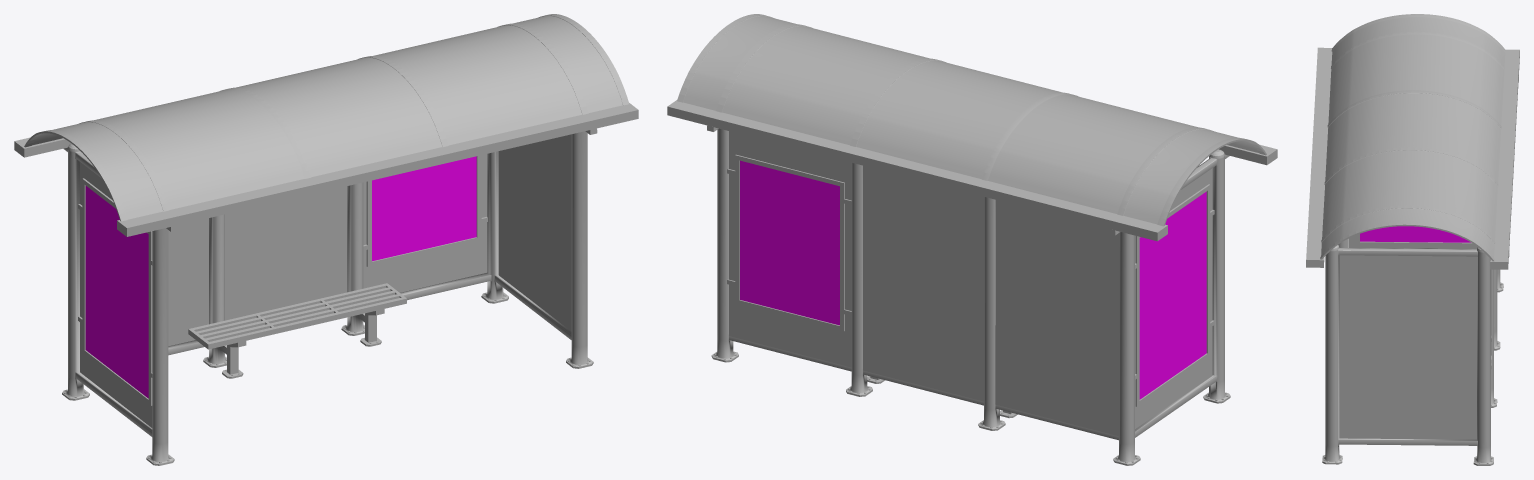
Rendered from busstop.fbx.
3 views of the same model, side by side, from view 1: azimuth 30°, elevation 25°; view 2: azimuth 150°, elevation 25°; view 3: azimuth 270°, elevation 25° (orthographic). The views are drawn at different scales.
Visible parts, largest first — view 1: BusStop; view 2: BusStop; view 3: BusStop.
Boxes of the visible parts, left/top/right/bottom form: BusStop: left=14, top=14, right=638, bottom=465; BusStop: left=667, top=14, right=1277, bottom=465; BusStop: left=1306, top=14, right=1519, bottom=465.
Size of the model in its own units: 588 by 326 by 248.
